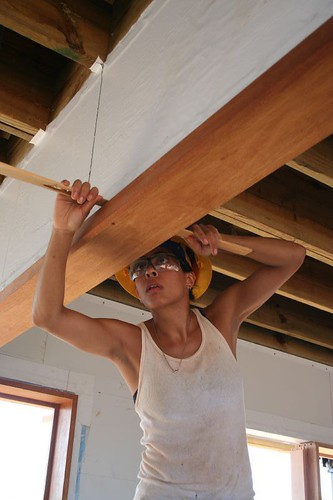person hardhat: (38, 175, 288, 500)
